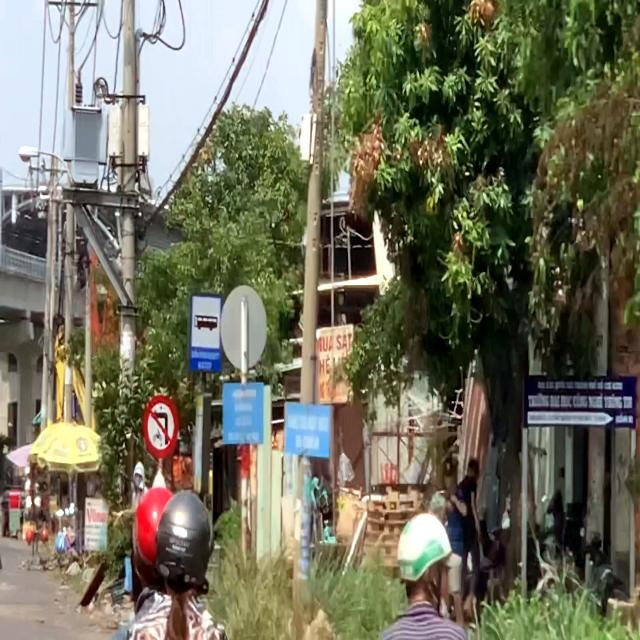I-434a: (188, 289, 222, 375)
P-123a: (145, 396, 180, 456)
